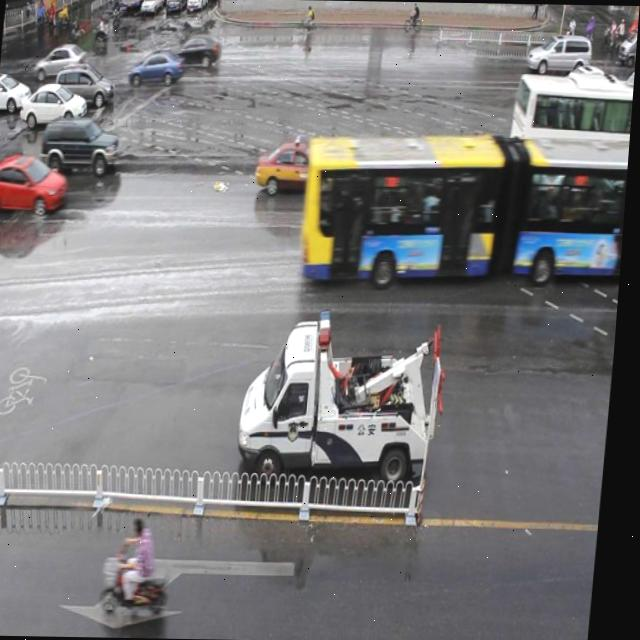car: (42, 115, 123, 175), (255, 137, 330, 192), (548, 61, 616, 108), (598, 163, 631, 231), (127, 50, 185, 88), (168, 34, 221, 68)
truck: (525, 32, 592, 78)
van: (301, 131, 632, 281), (507, 72, 636, 184)
